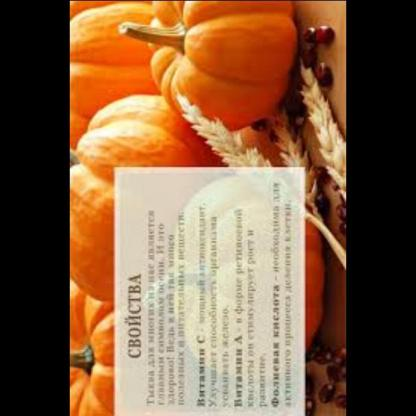fasol: (293, 18, 342, 86), (304, 341, 345, 412)
pumpkin: (69, 94, 206, 296), (140, 0, 295, 127), (69, 0, 160, 153), (69, 280, 121, 416)
